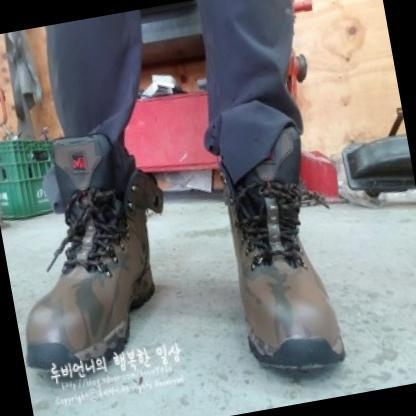safety-shoe: (194, 110, 375, 388), (0, 128, 184, 401)
